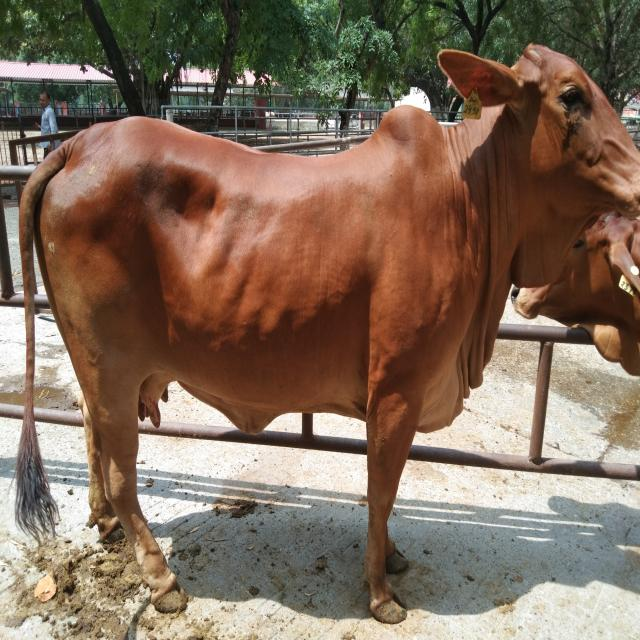1: (363, 106, 448, 142)
Hoof: (152, 581, 188, 614), (369, 596, 407, 624), (386, 548, 408, 574)
